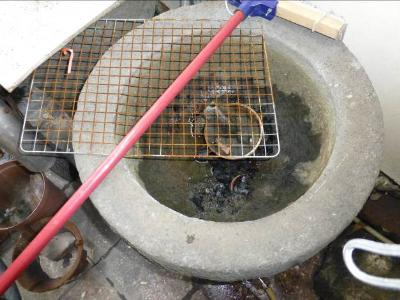bowl: (71, 3, 384, 284), (11, 214, 89, 295)
